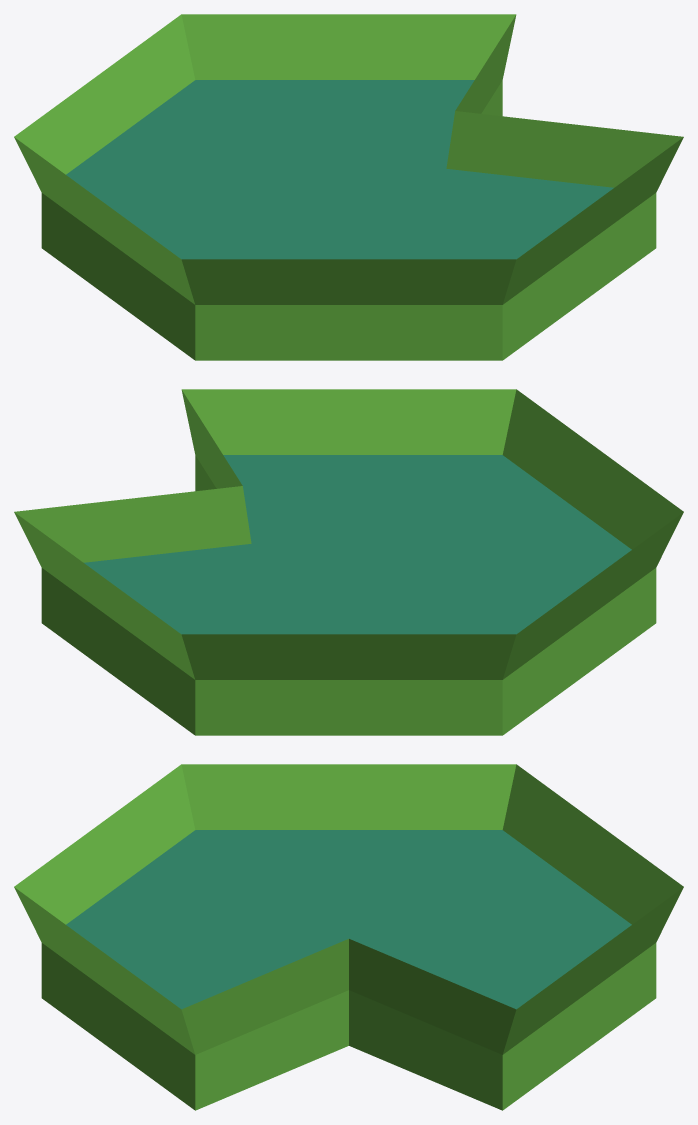
File: lily_small.glb
3 views of the same model, one above another, from view 1: azimuth 30°, elevation 25°; view 2: azimuth 150°, elevation 25°; view 3: azimuth 270°, elevation 25° (orthographic).
Visible parts, largest first — view 1: lily_small; view 2: lily_small; view 3: lily_small.
Boxes of the visible parts, x1,y1,x2,y2 form: lily_small: (14, 14, 683, 360); lily_small: (14, 389, 683, 735); lily_small: (14, 764, 683, 1110).
Bounding box in the file's own units: 0.3776 × 0.08 × 0.436.
